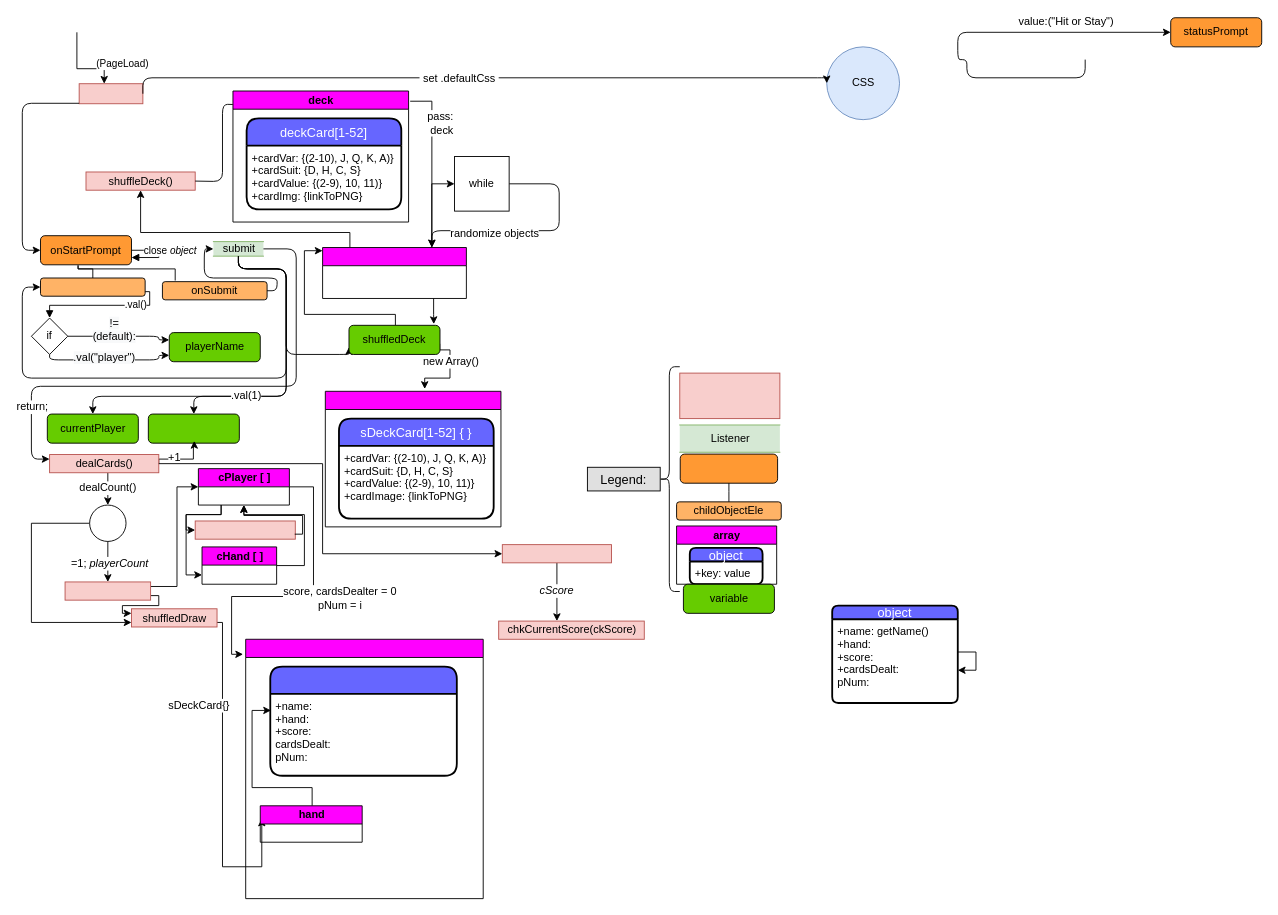
This 1278x915 diagram has some shape labels left out. The shapes that lost their labels are listed below. From the top down, each one's box as (x1, y1, x2, y2) in pixels, then its label:
(78, 83, 143, 104): onLoad()
(40, 277, 145, 296): onPlayerName
(322, 247, 466, 298): shuffle [ ]
(679, 372, 780, 419): Function
(147, 413, 239, 443): dealCount
(324, 390, 501, 527): shuffledDeck [ ]
(679, 453, 778, 483): ParentObjectEle
(89, 504, 126, 541): for
(194, 520, 295, 539): getName(i)
(501, 544, 612, 563): setCurrentScore(cp)
(64, 581, 151, 600): createHand(pc)
(269, 665, 457, 776): cPlayer{}
(245, 638, 483, 899): players [ ]
